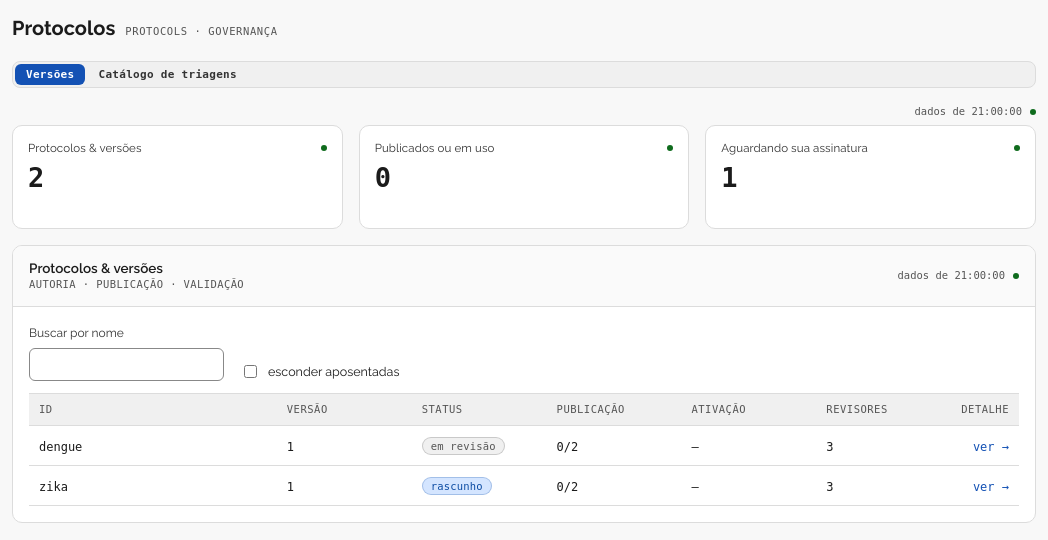
Test: Protocols › conta e filtra 'aguardando sua assinatura'
Expected: the text "1" below "Publicados ou em uso" is shown, [721, 162, 737, 193]
Click the text "Aguardando sua assinatura".
click(795, 148)  # box [721, 139, 868, 156]
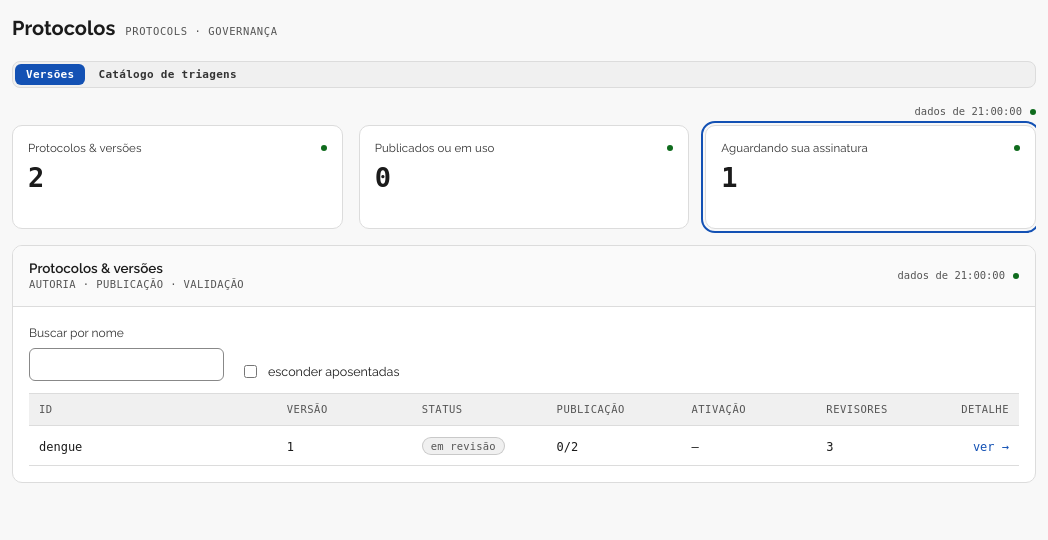
Expected: the text "dengue" is shown, [39, 440, 82, 454]
Now the text "zika" is gone
